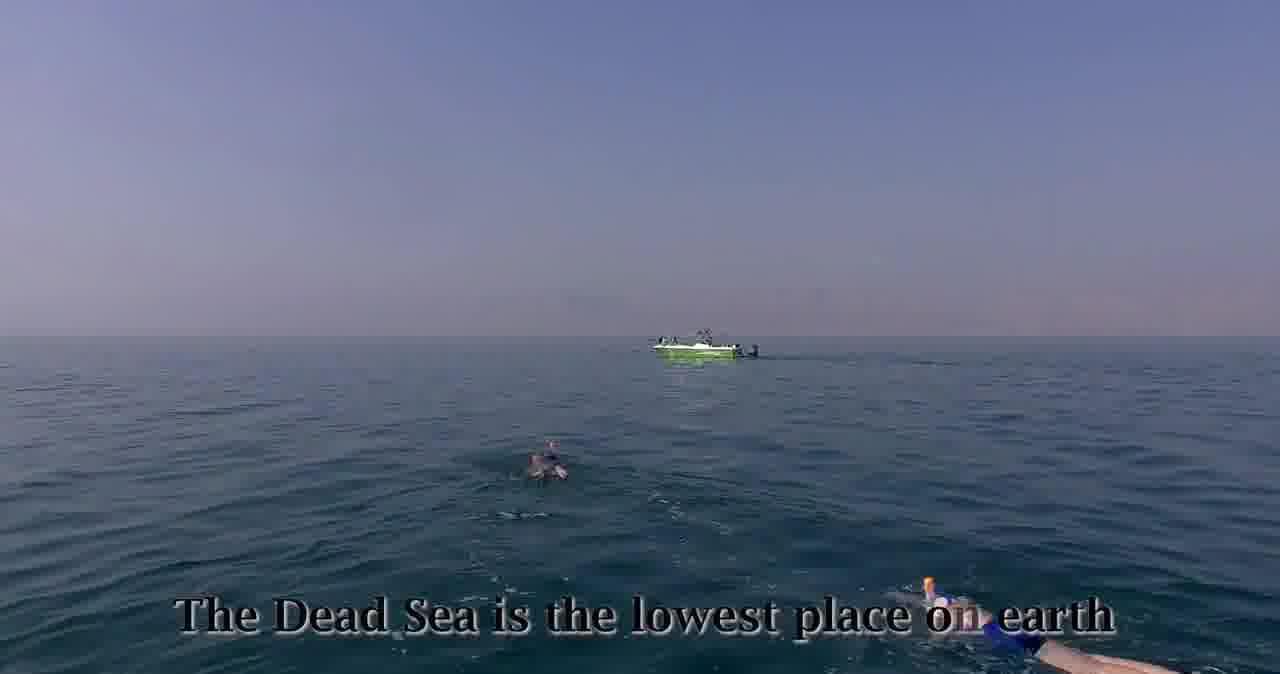human: (898, 576, 1142, 659), (513, 438, 586, 497)
